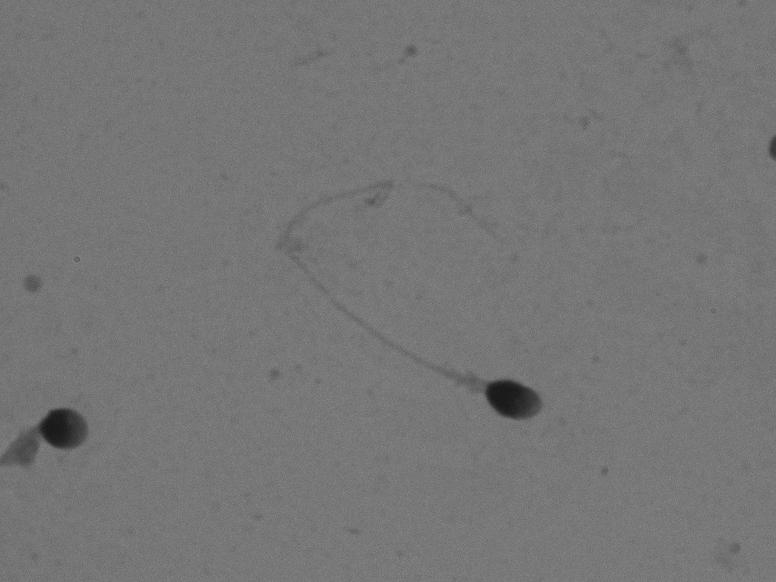Abnormal: (245, 161, 611, 445)
